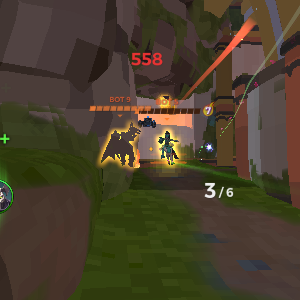model: (107, 126, 139, 168), (158, 127, 182, 169)
